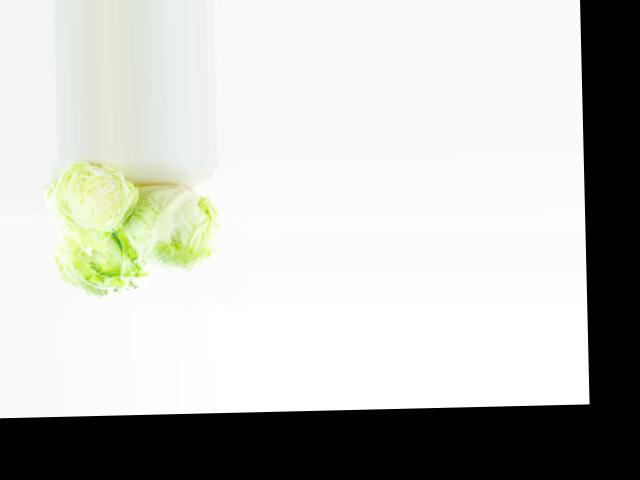lettuce: (84, 181, 243, 311)
